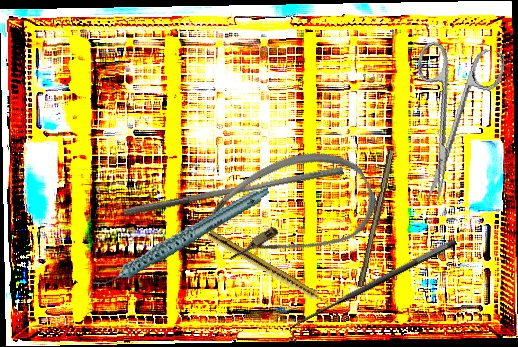Cannula: (183, 129, 387, 300)
Handpiece: (80, 185, 282, 290), (205, 229, 333, 311)
Hook Surgical: (284, 236, 465, 344)
Iris Scissors: (388, 34, 508, 209)
Pusher: (122, 158, 345, 225)
Scalpel Handle: (357, 147, 397, 289)
